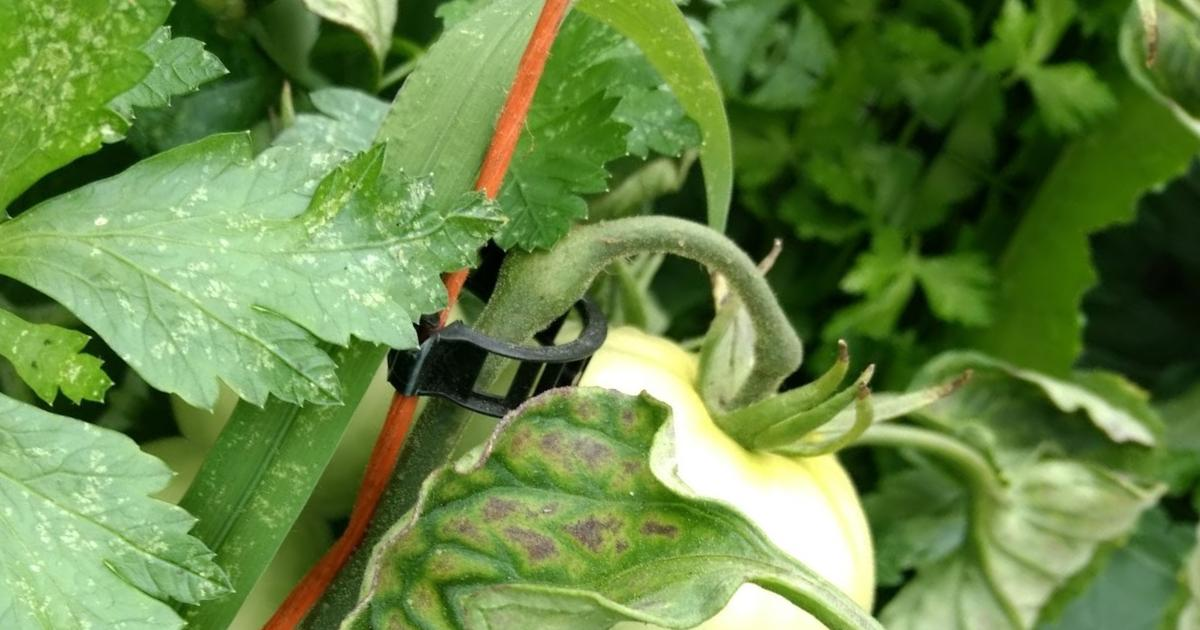Tomato leaf mosaic virus: (0, 0, 508, 497)
